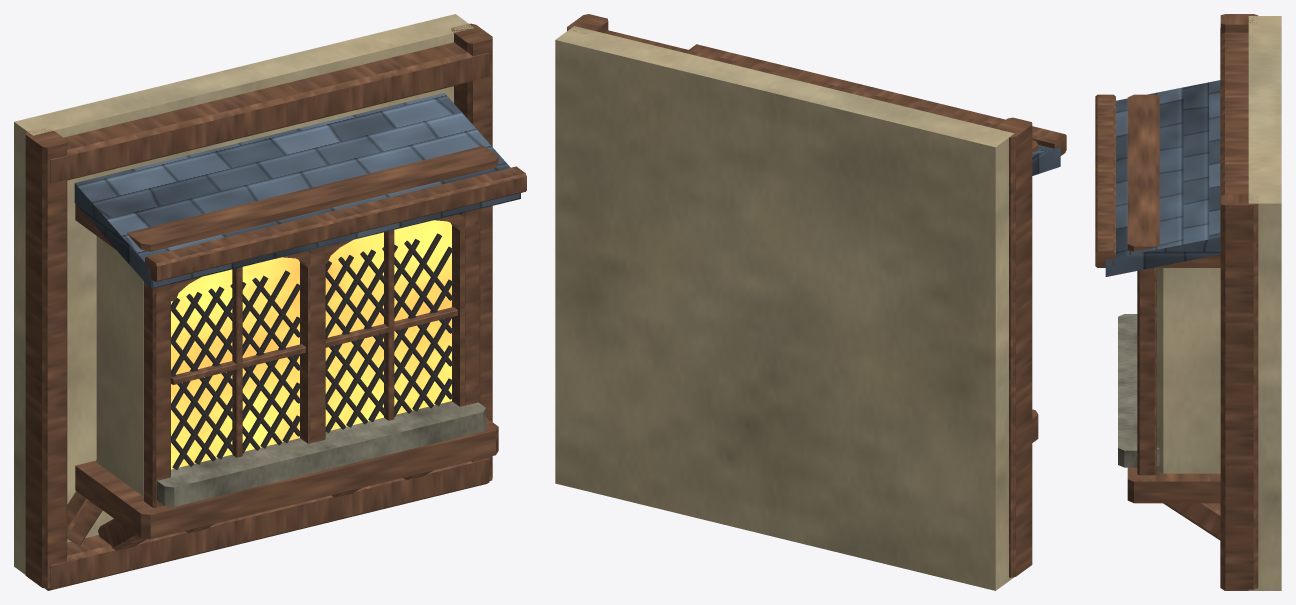
Rendered from wall_oriel.glb.
The picture shows the model from 3 angles, left to right: view 1: azimuth 30°, elevation 25°; view 2: azimuth 150°, elevation 25°; view 3: azimuth 270°, elevation 25°; orthographic projection. The views are drawn at different scales.
Visible parts, largest first — view 1: Wall Oriel; view 2: Wall Oriel; view 3: Wall Oriel.
Part boxes in pixels (x1,y1,x2,y2): Wall Oriel: (14,14,526,590); Wall Oriel: (555,14,1066,590); Wall Oriel: (1095,14,1281,590).
Size of the model in its own units: 3.26 by 3.09 by 1.35.
6 materials, 5 textured.
